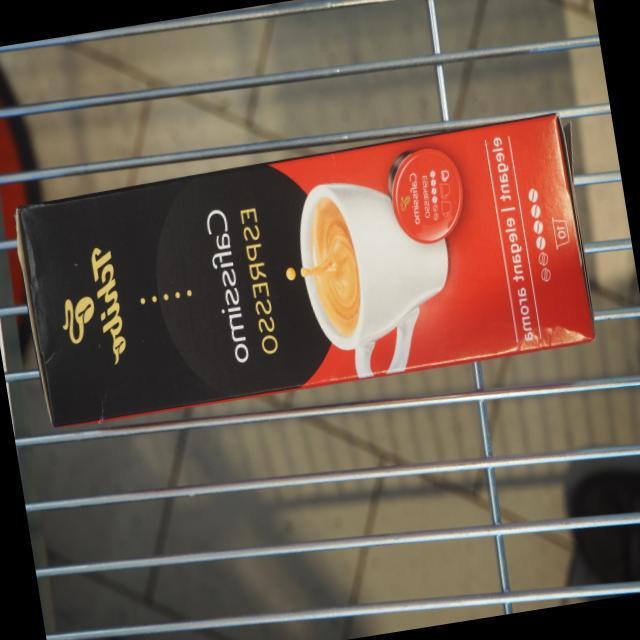Simo Es Elegant: (6, 107, 600, 436)
